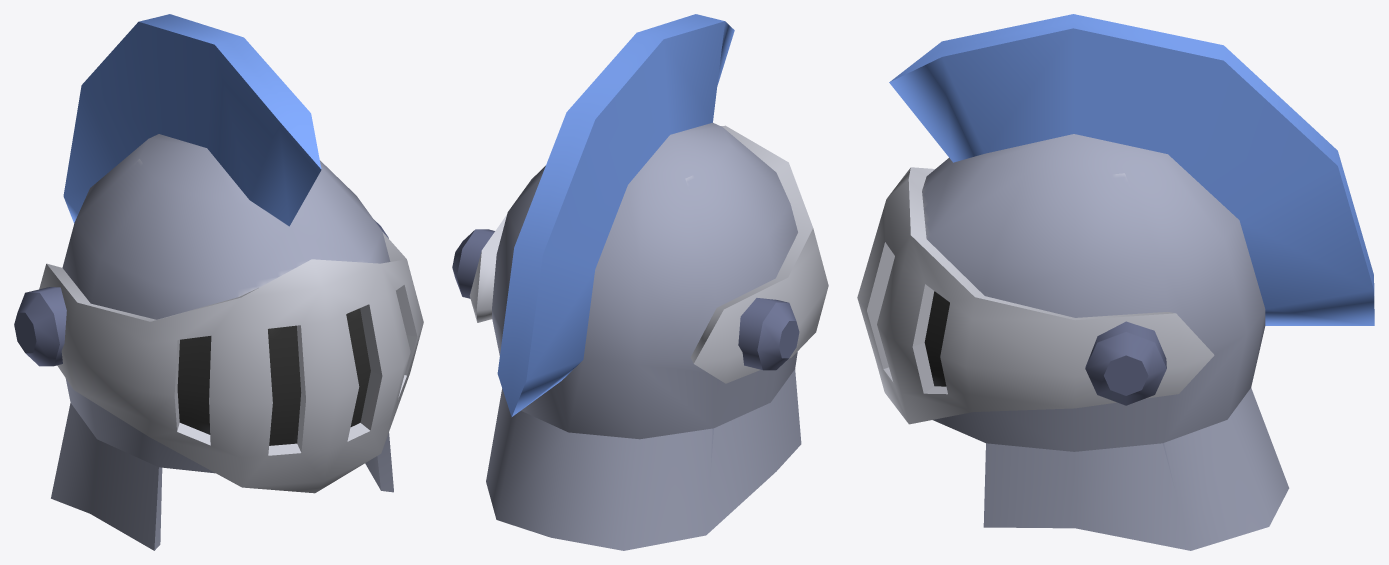
Rendered from chr_Soldier_Helmet01.fbx.
3 renders of one model, left to right at view 1: azimuth 30°, elevation 25°; view 2: azimuth 150°, elevation 25°; view 3: azimuth 270°, elevation 25°, orthographic. The views are drawn at different scales.
Visible parts, largest first — view 1: expandguy_normal001; view 2: expandguy_normal001; view 3: expandguy_normal001.
Part boxes in pixels (x1=…): expandguy_normal001: x1=14, y1=14, x2=423, y2=550; expandguy_normal001: x1=452, y1=14, x2=828, y2=550; expandguy_normal001: x1=857, y1=14, x2=1374, y2=550.
Size of the model in its own units: 87.25 by 111 by 110.
Materials: 1 (1 with a texture image).
